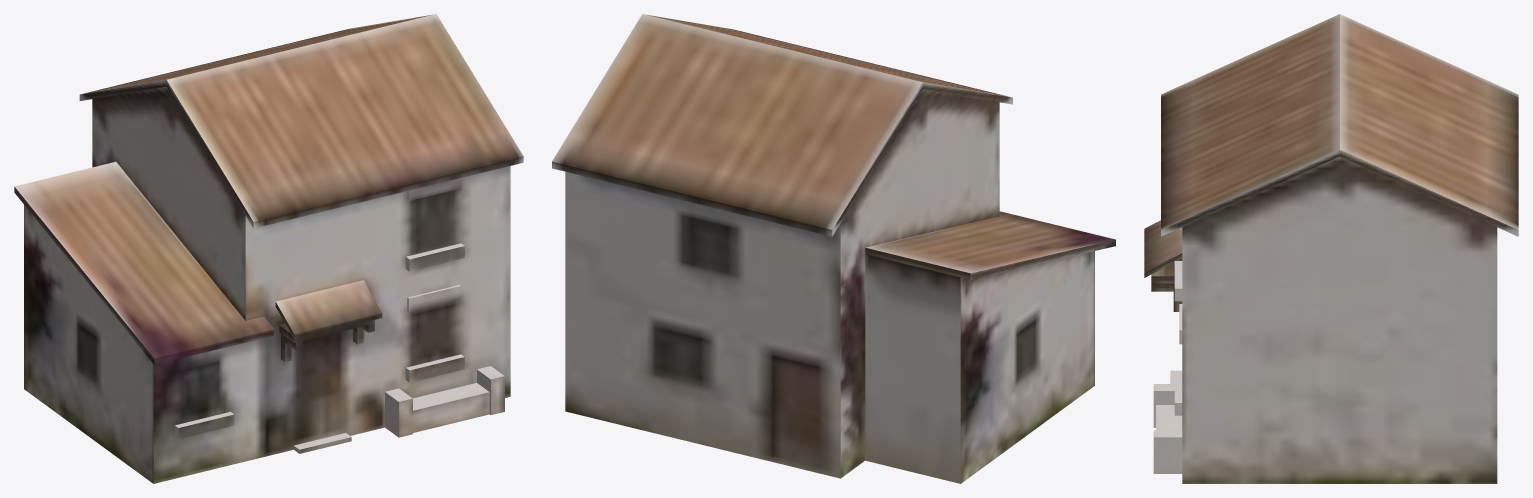
The model's file is casa_rustica_lejos.glb.
3 views of the same model, side by side, from view 1: azimuth 30°, elevation 25°; view 2: azimuth 150°, elevation 25°; view 3: azimuth 270°, elevation 25° (orthographic). The views are drawn at different scales.
Parts seen in each view (by area): view 1: CR_Casa; view 2: CR_Casa; view 3: CR_Casa.
Boxes of the visible parts, x1,y1,x2,y2 form: CR_Casa: (14,14,523,483); CR_Casa: (552,14,1115,483); CR_Casa: (1144,14,1518,483).
Bounding box in the file's own units: 9.19 × 7.76 × 7.85.
1 material, 1 textured.
